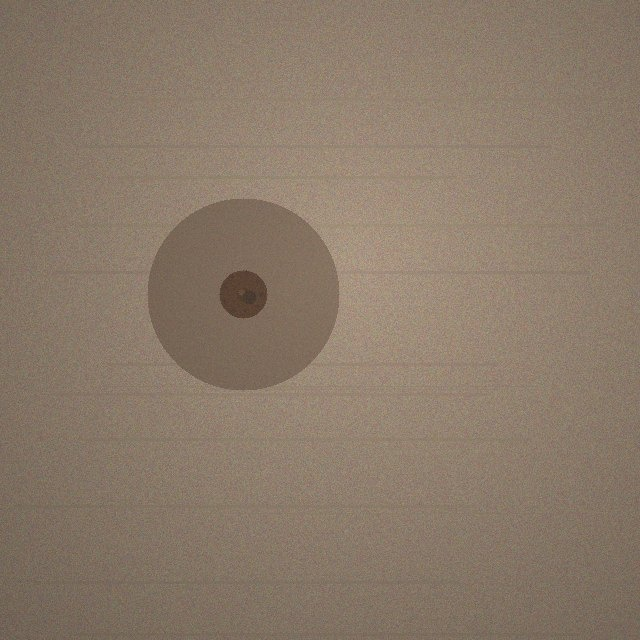cold_weld: (147, 198, 339, 390)
